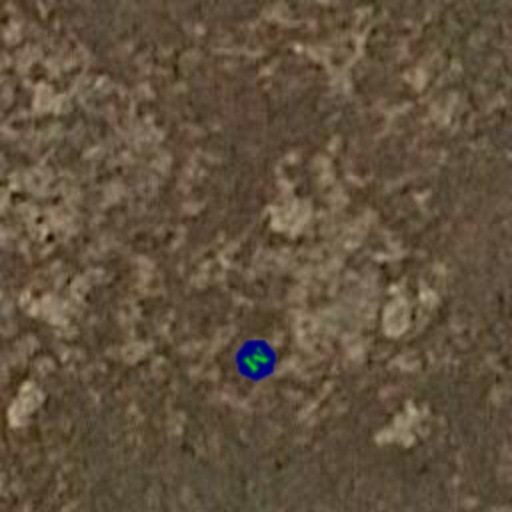heptagon: (224, 328, 288, 392)
